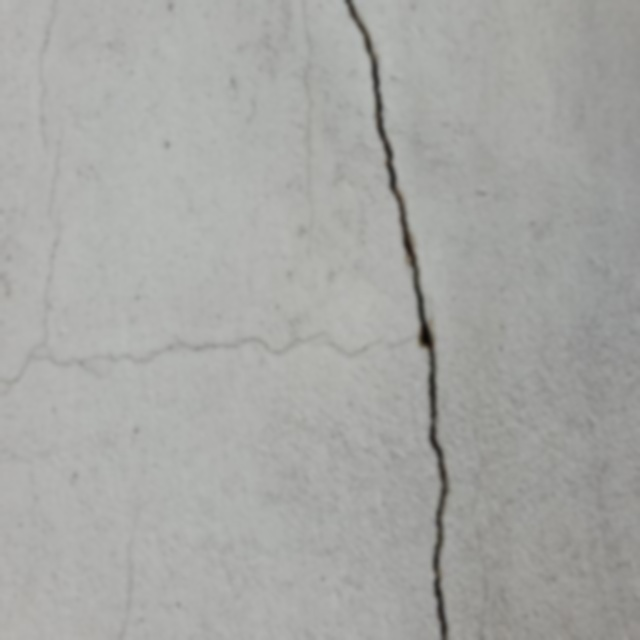SurfaceCrack: (308, 0, 484, 640), (0, 296, 630, 437), (6, 0, 102, 369)
